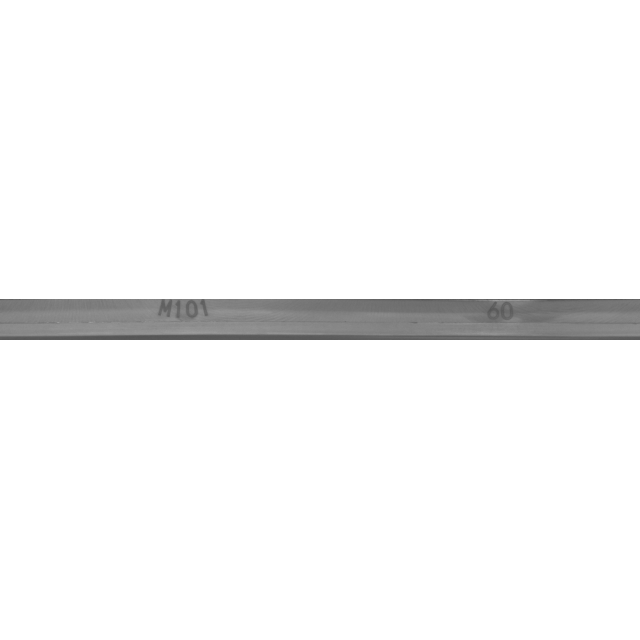mohao: (82, 270, 282, 370)
xuehao: (403, 270, 603, 370)
